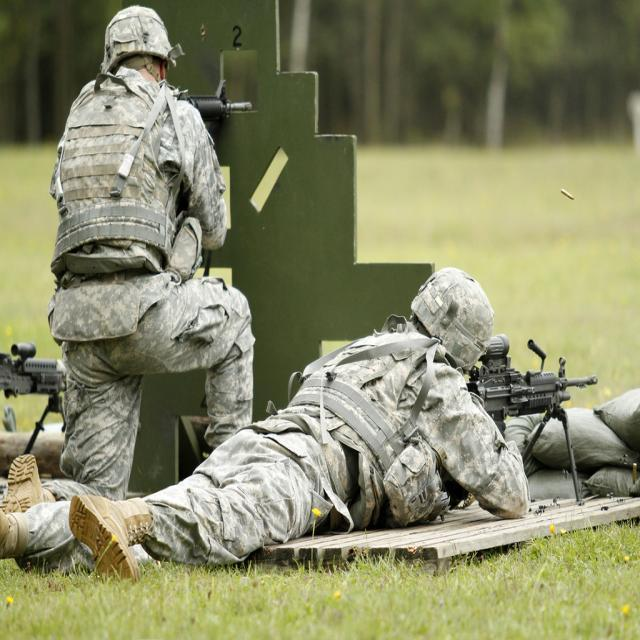weapon: (460, 349, 616, 450), (0, 338, 74, 420), (175, 74, 255, 132)
